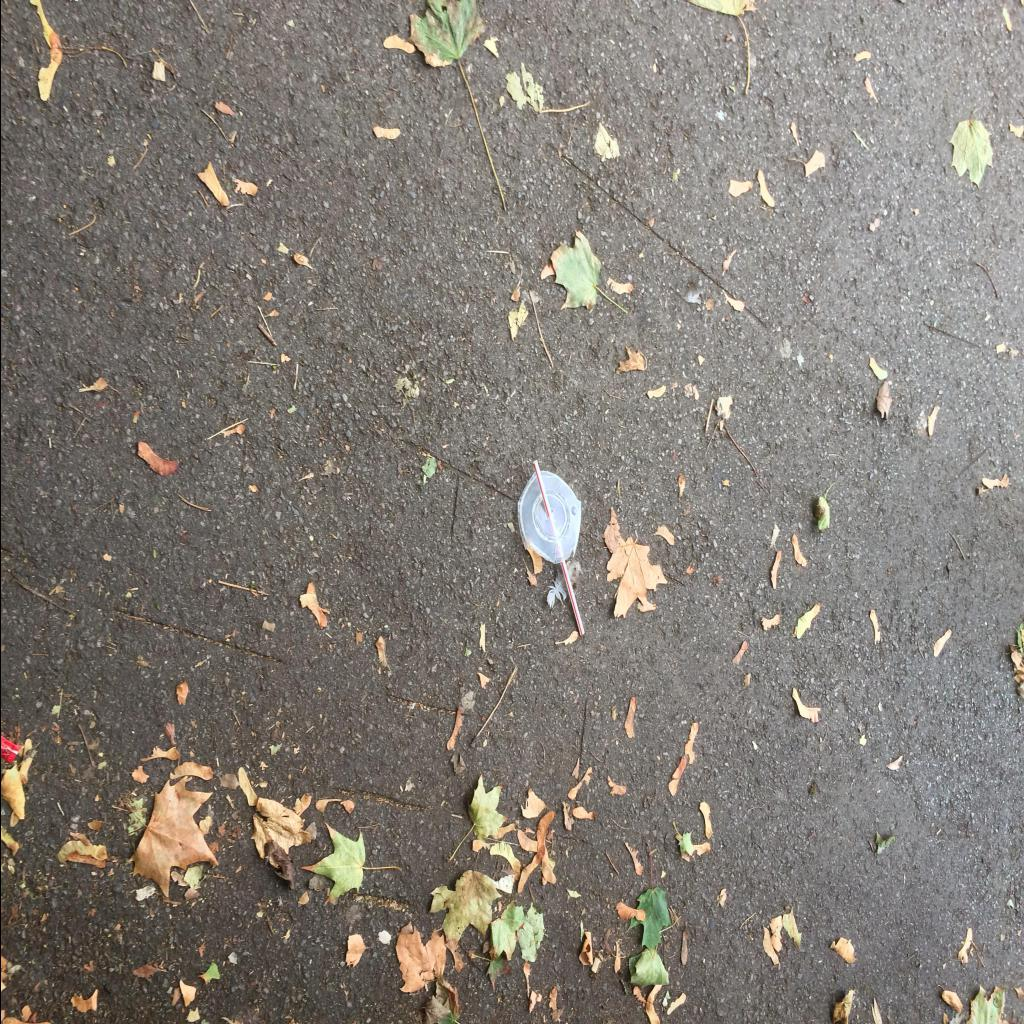Plastic lid: (516, 471, 580, 564)
Plastic straw: (532, 460, 584, 636)
Unlabeled litter: (1, 734, 20, 766)
